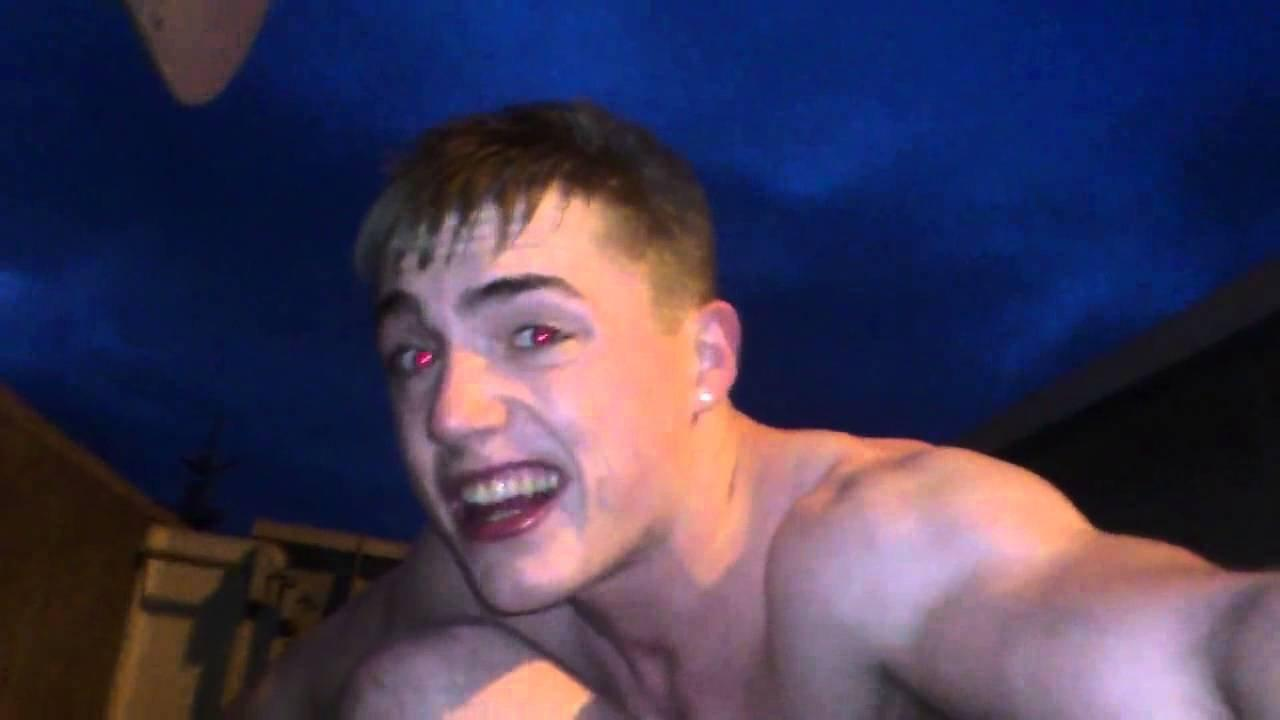Drunk: (371, 229, 660, 604)
